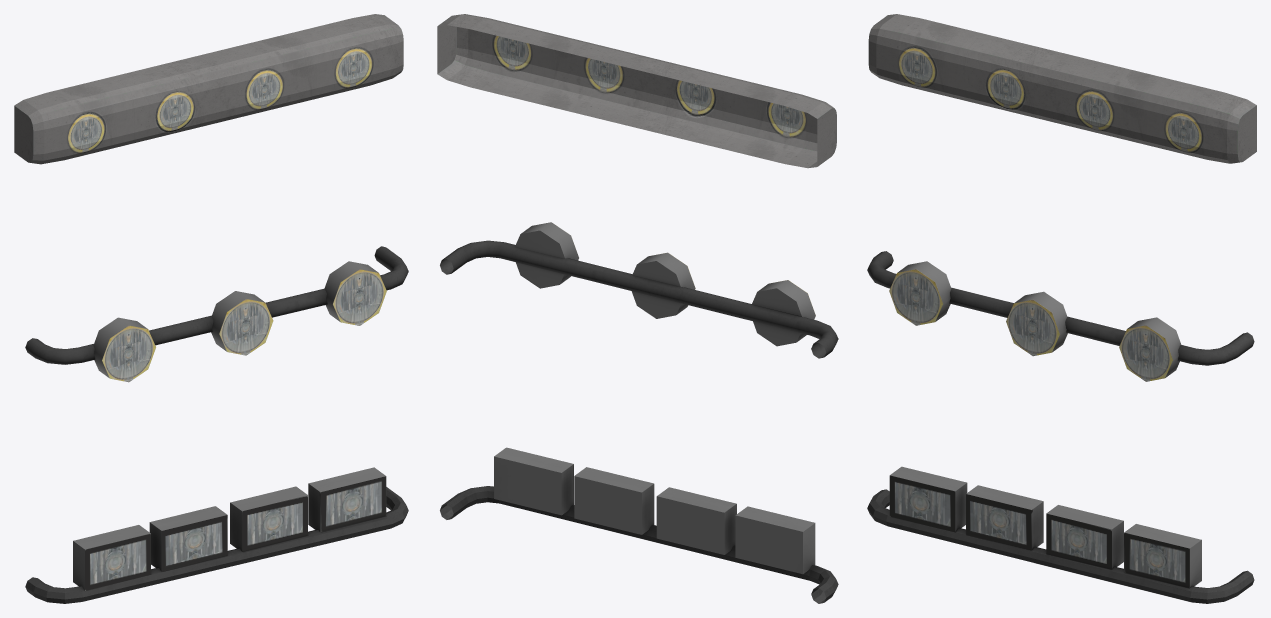
Rendered from topbars.fbx.
The picture shows the model from 3 angles, left to right: view 1: azimuth 30°, elevation 25°; view 2: azimuth 150°, elevation 25°; view 3: azimuth 330°, elevation 25°; orthographic projection. The views are drawn at different scales.
Visible parts, largest first — view 1: topbar1, topbar3, topbar2; view 2: topbar1, topbar3, topbar2; view 3: topbar1, topbar3, topbar2.
Boxes of the visible parts, <box> form: topbar1: <box>14,14,403,164</box>; topbar3: <box>25,467,408,603</box>; topbar2: <box>25,246,408,382</box>; topbar1: <box>437,14,836,168</box>; topbar3: <box>440,447,838,603</box>; topbar2: <box>440,222,838,358</box>; topbar1: <box>868,14,1256,163</box>; topbar3: <box>867,466,1254,603</box>; topbar2: <box>867,251,1254,381</box>.
Size of the model in its own units: 312 by 391 by 62.81.
